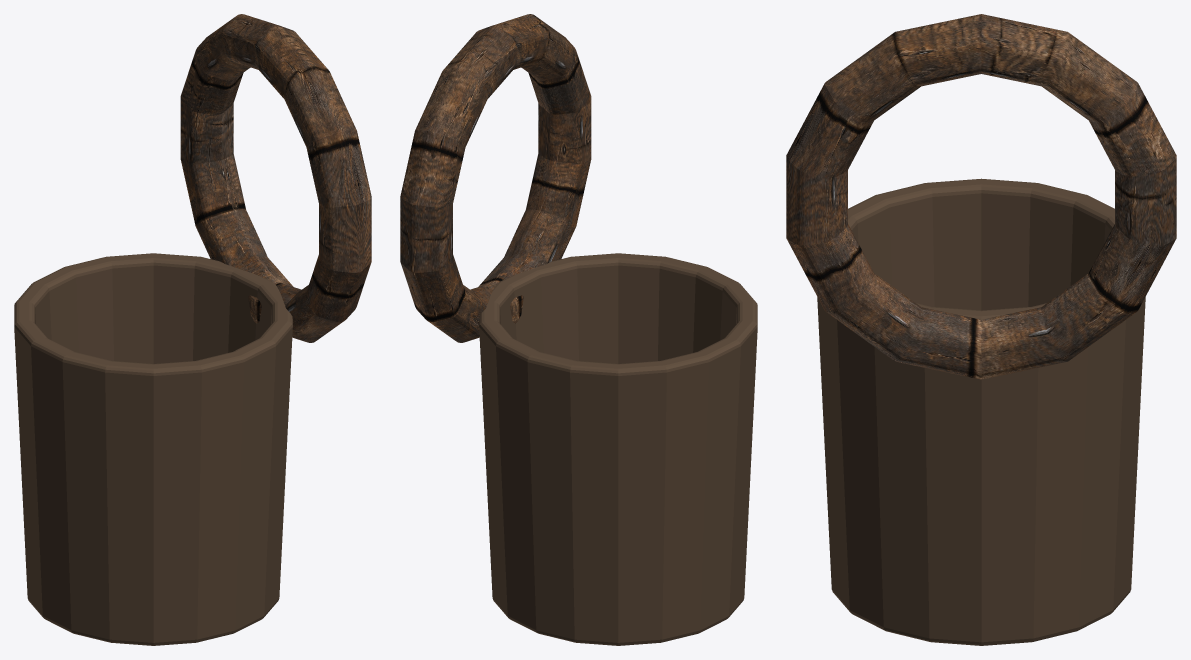
Rendered from wooden-mug-v01.glb.
3 views of the same model, side by side, from view 1: azimuth 30°, elevation 25°; view 2: azimuth 150°, elevation 25°; view 3: azimuth 270°, elevation 25° (orthographic). The views are drawn at different scales.
Parts seen in each view (by area): view 1: wooden-mug; view 2: wooden-mug; view 3: wooden-mug.
Part boxes in pixels (x1=…): wooden-mug: x1=14, y1=14, x2=371, y2=645; wooden-mug: x1=400, y1=14, x2=757, y2=645; wooden-mug: x1=786, y1=14, x2=1176, y2=645.
Bounding box in the file's own units: 0.2171 × 0.4188 × 0.2315.
1 material, 1 textured.
